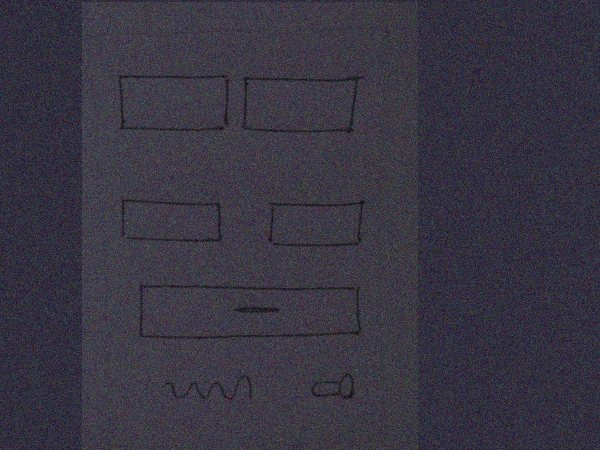button: (130, 279, 368, 350)
switch: (304, 368, 359, 407)
text: (149, 369, 257, 408)
text_input: (238, 71, 368, 140), (111, 69, 234, 137), (261, 196, 374, 256), (116, 192, 226, 251)
